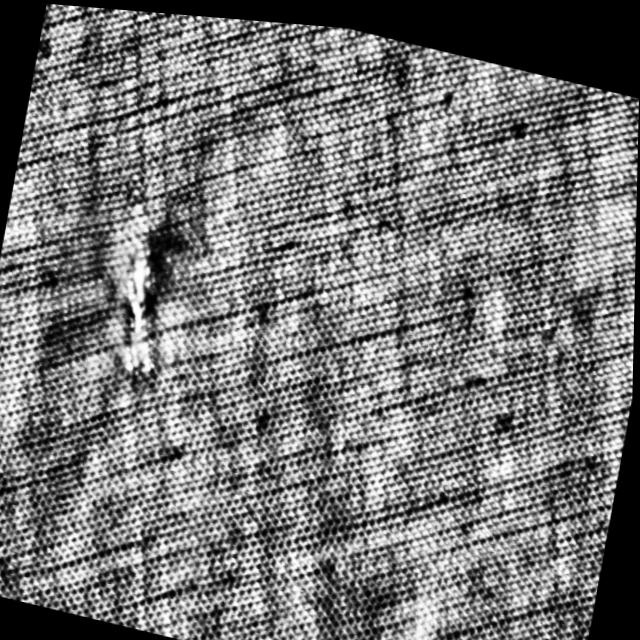Hole: (75, 184, 207, 395)
